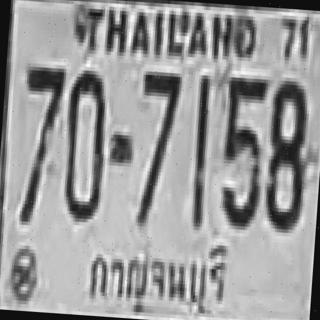N00: (60, 66, 107, 220)
N01: (188, 73, 211, 225)
N05: (217, 73, 266, 227)
N07: (16, 65, 66, 222), (133, 68, 180, 224), (20, 63, 66, 172)
N08: (262, 76, 309, 230)
P17: (80, 230, 237, 320)
